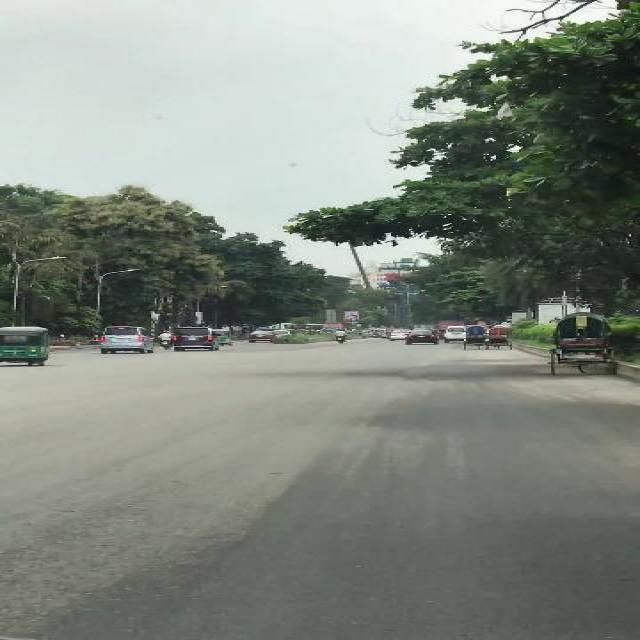bike: (159, 331, 175, 352), (333, 329, 349, 344)
vehicle: (545, 313, 616, 378), (1, 325, 53, 369), (98, 327, 156, 355), (174, 327, 220, 352), (464, 327, 487, 352), (488, 326, 511, 351), (407, 331, 439, 345), (246, 331, 275, 343), (444, 327, 465, 343), (218, 330, 232, 347), (390, 331, 406, 340)
